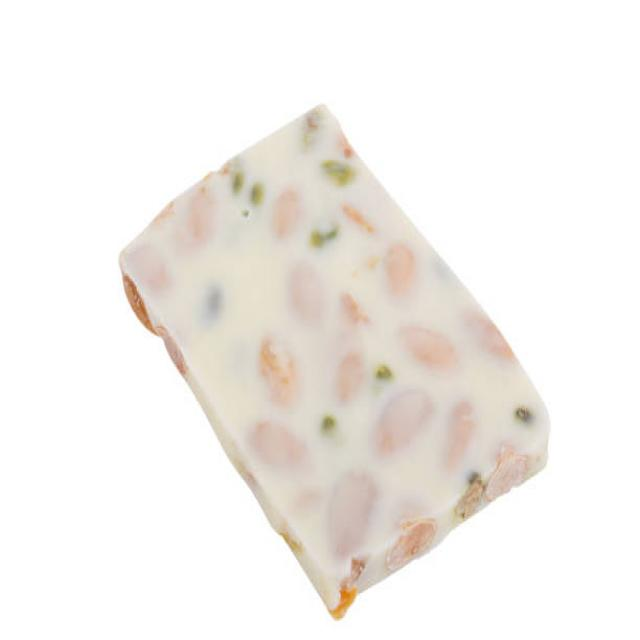Chocolate: (120, 93, 550, 616)
